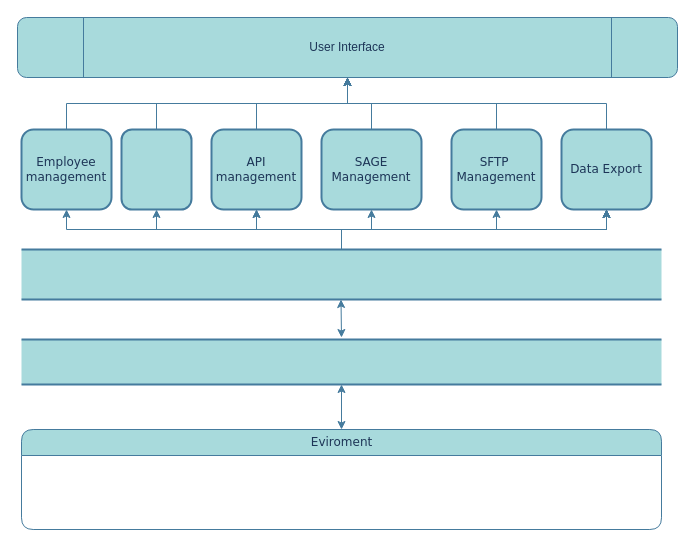
The diagram is 695 pixels wide and 547 high, and some of its shapes have lost their labels. Here are the shapes that lost their labels. From the top down, the box of each, then its label:
(120, 128, 192, 210): Reporting
(20, 248, 662, 300): Data Processor
(20, 338, 662, 385): Database
